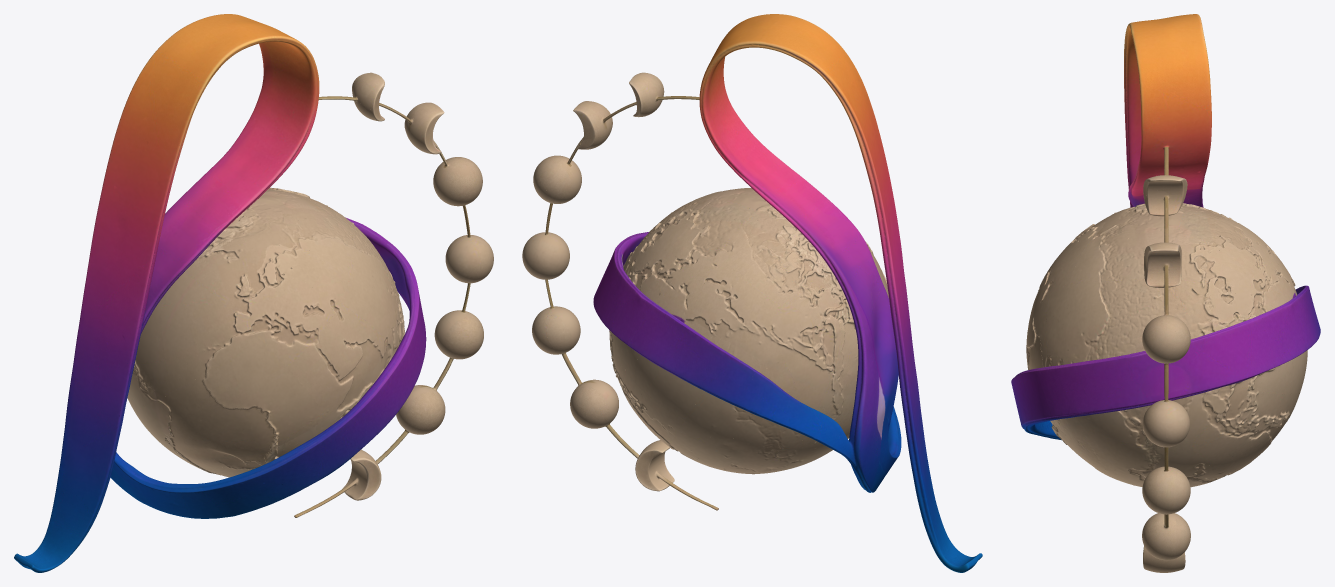
File: v33-lite-sculpture-meshopt.glb
The picture shows the model from 3 angles, left to right: view 1: azimuth 30°, elevation 25°; view 2: azimuth 150°, elevation 25°; view 3: azimuth 270°, elevation 25°; orthographic projection. The views are drawn at different scales.
Parts seen in each view (by area): view 1: BSTVC_Orbital_Sculpture; view 2: BSTVC_Orbital_Sculpture; view 3: BSTVC_Orbital_Sculpture.
Boxes of the visible parts, x1,y1,x2,y2 form: BSTVC_Orbital_Sculpture: (14, 14, 493, 572); BSTVC_Orbital_Sculpture: (522, 14, 982, 572); BSTVC_Orbital_Sculpture: (1011, 14, 1320, 572).
Size of the model in its own units: 5.12 by 5.34 by 3.02.
Materials: 1 (1 with a texture image).
